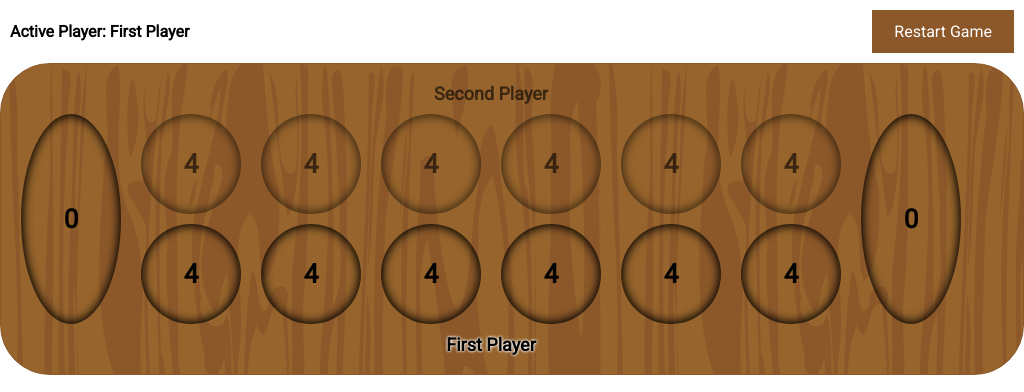
Mancala › onClickCup › should empty cup
Click the text with test id "firstPlayercup1": [191, 274] box [141, 224, 241, 324]
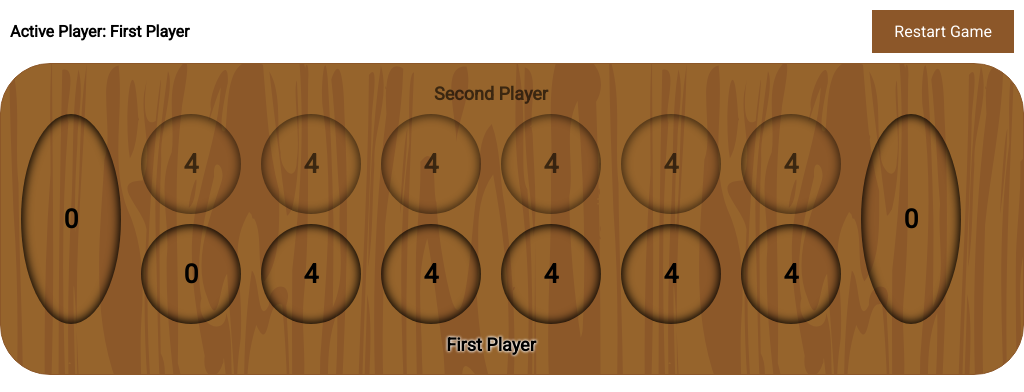
Expected: the text with test id "firstPlayercup1" reads "0", [184, 259, 198, 289]
